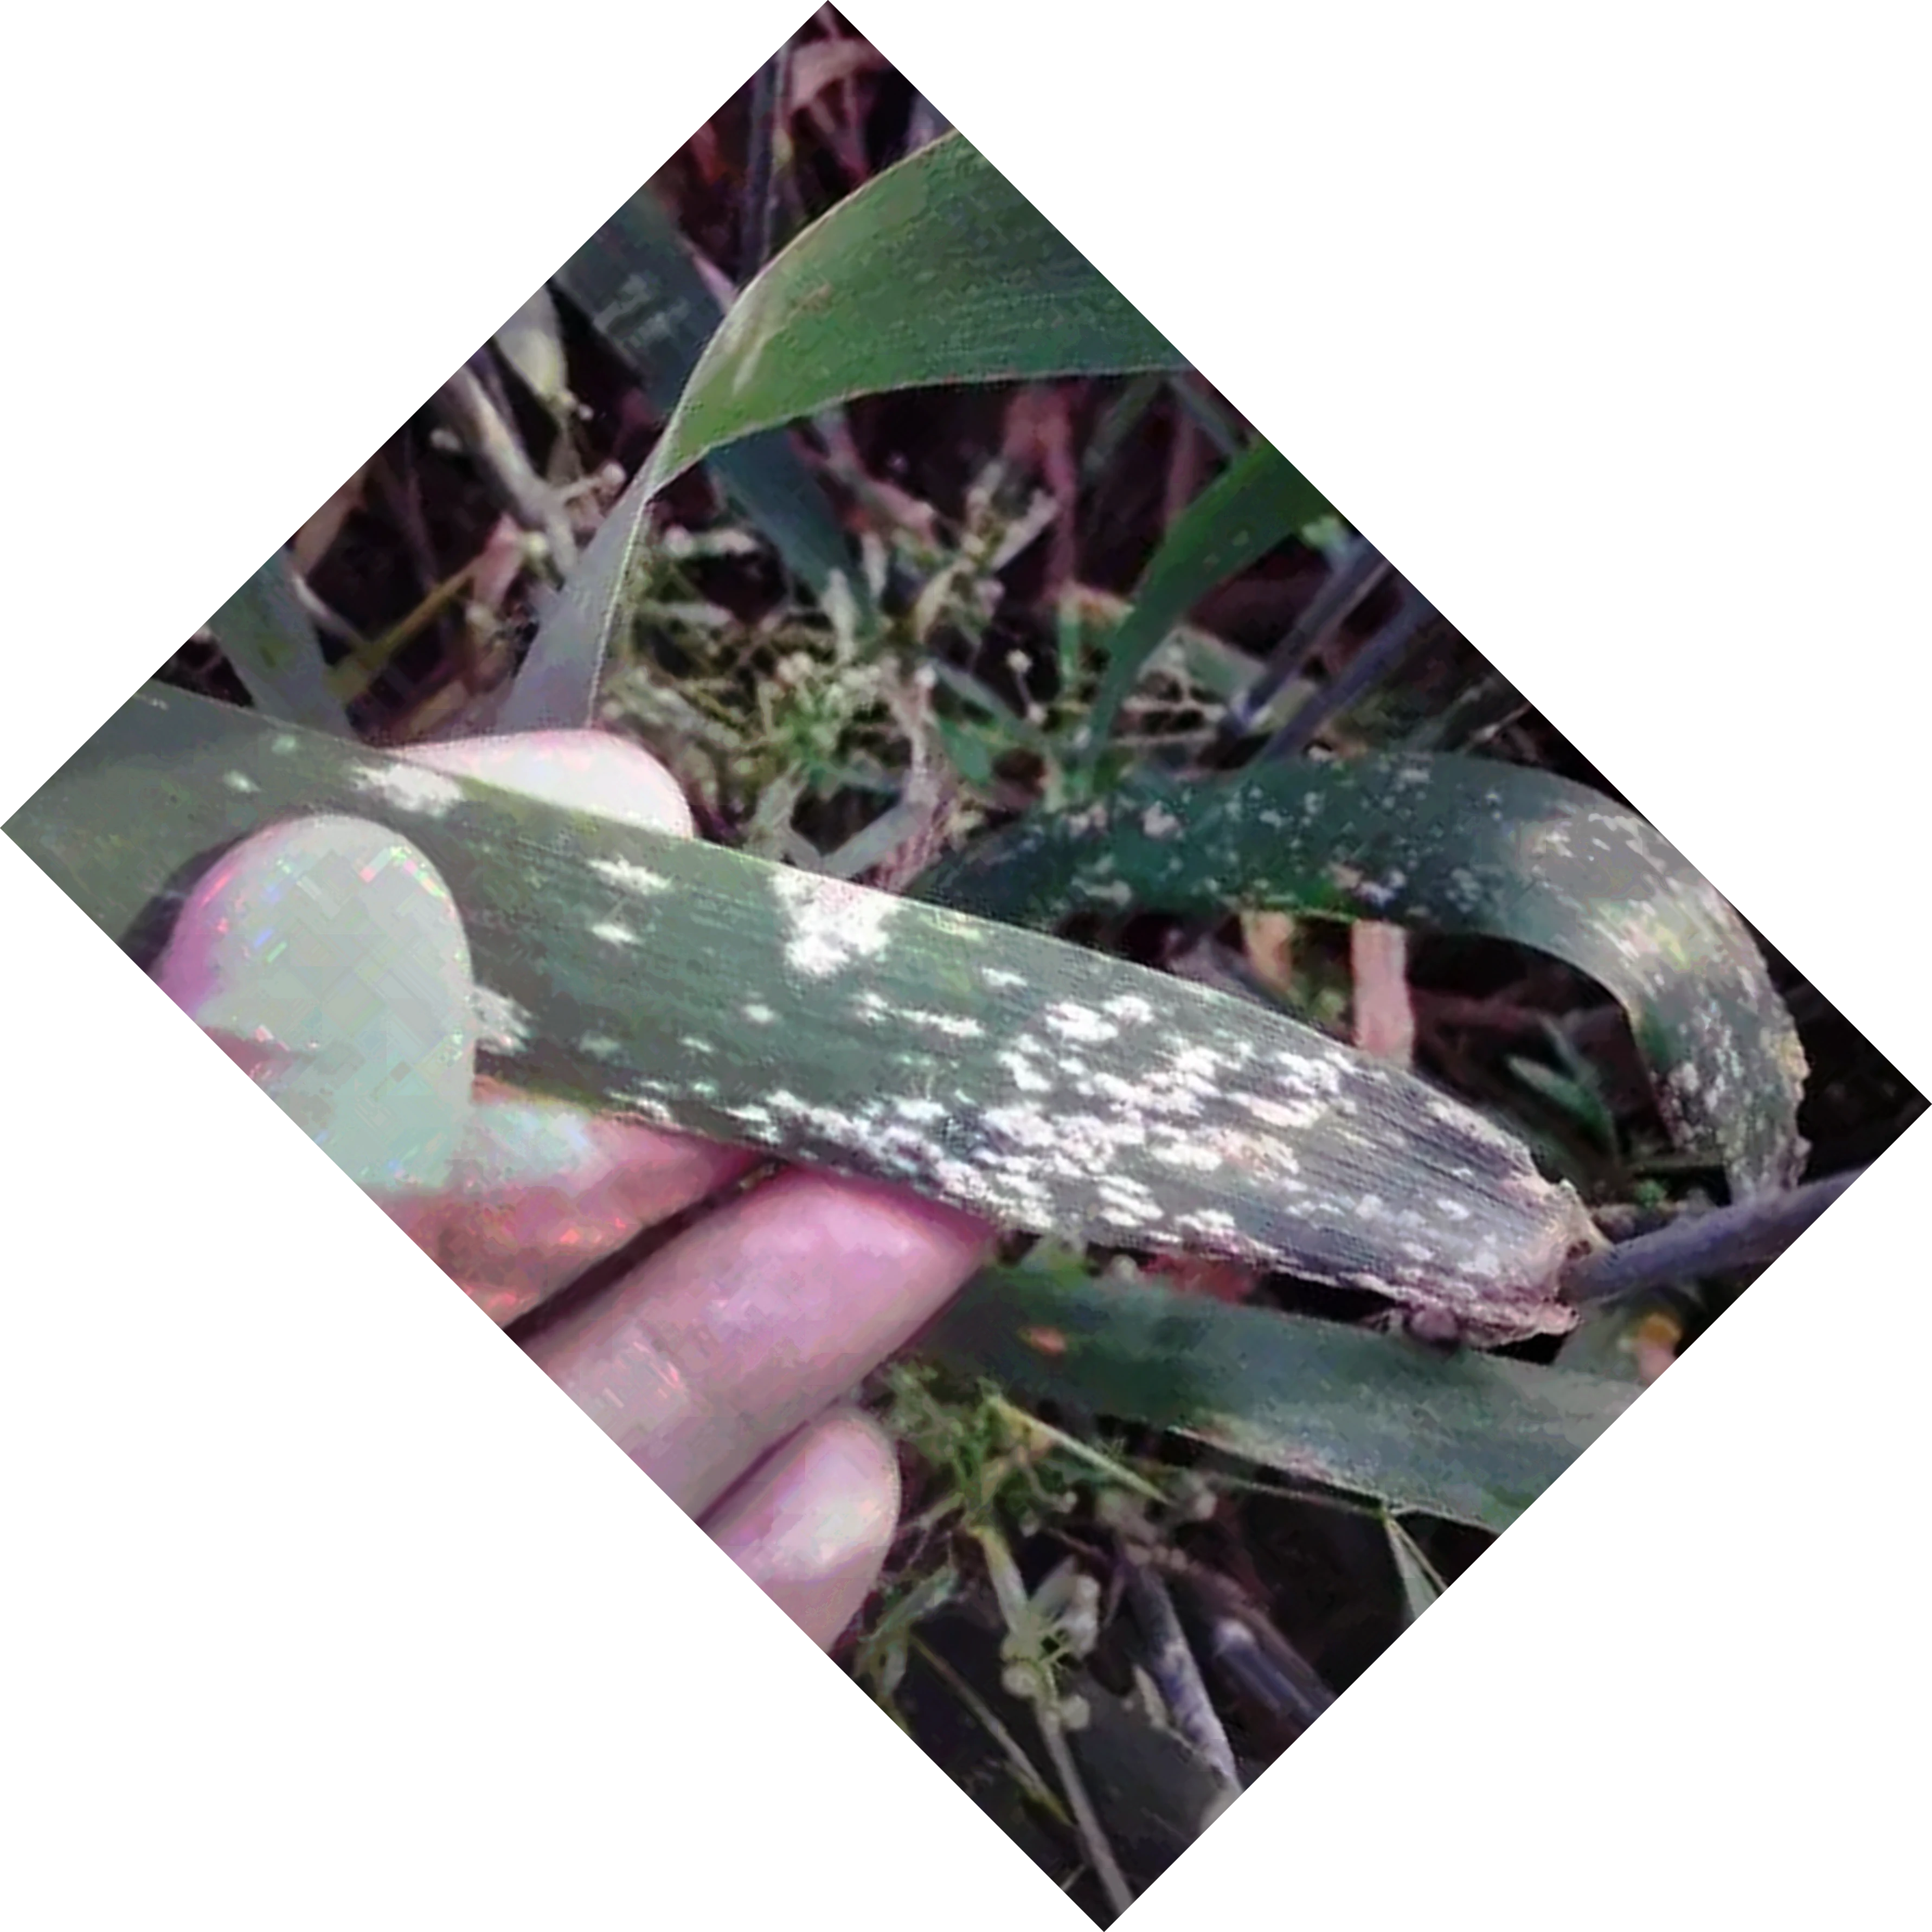Powdery Mildew: (582, 867, 1421, 1281)
